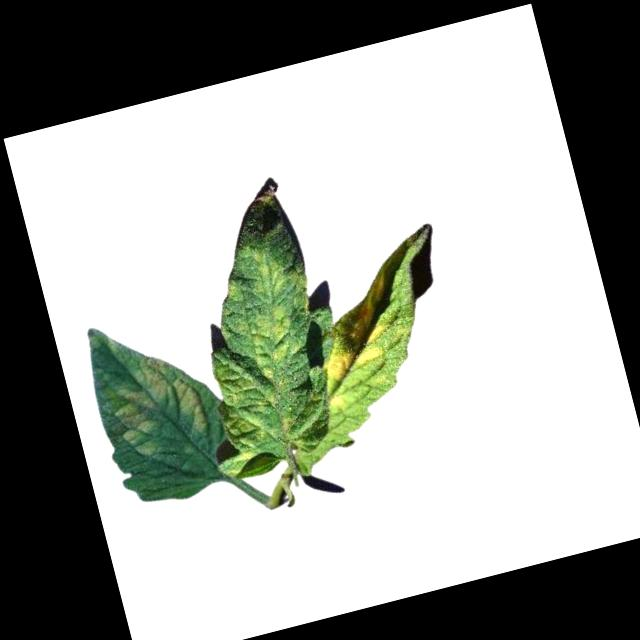Leaf_Mold: (96, 346, 213, 468), (223, 240, 311, 384), (303, 267, 407, 385), (205, 348, 289, 458), (325, 389, 351, 413)
